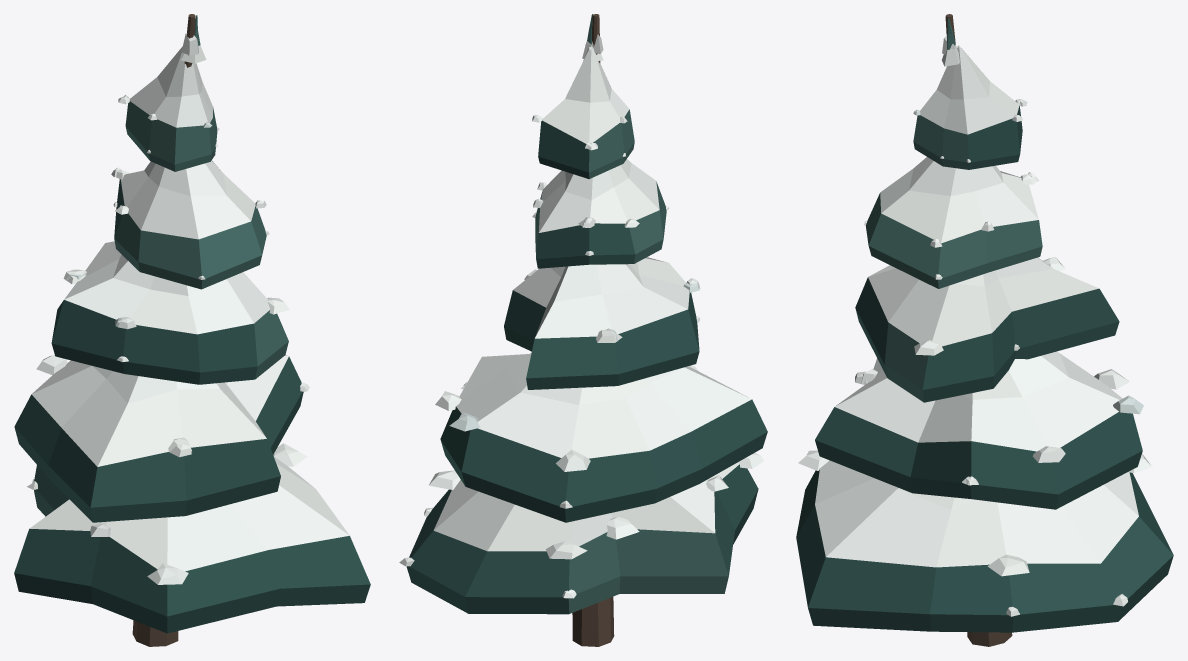
Rendered from pine_tree_a.glb.
3 views of the same model, side by side, from view 1: azimuth 30°, elevation 25°; view 2: azimuth 150°, elevation 25°; view 3: azimuth 270°, elevation 25° (orthographic). The views are drawn at different scales.
Visible parts, largest first — view 1: pine_tree_a; view 2: pine_tree_a; view 3: pine_tree_a.
Boxes of the visible parts, left/top/right/bottom form: pine_tree_a: left=14, top=14, right=370, bottom=646; pine_tree_a: left=399, top=14, right=767, bottom=646; pine_tree_a: left=796, top=14, right=1173, bottom=646.
Bounding box in the file's own units: 5.06 × 10 × 5.43.
